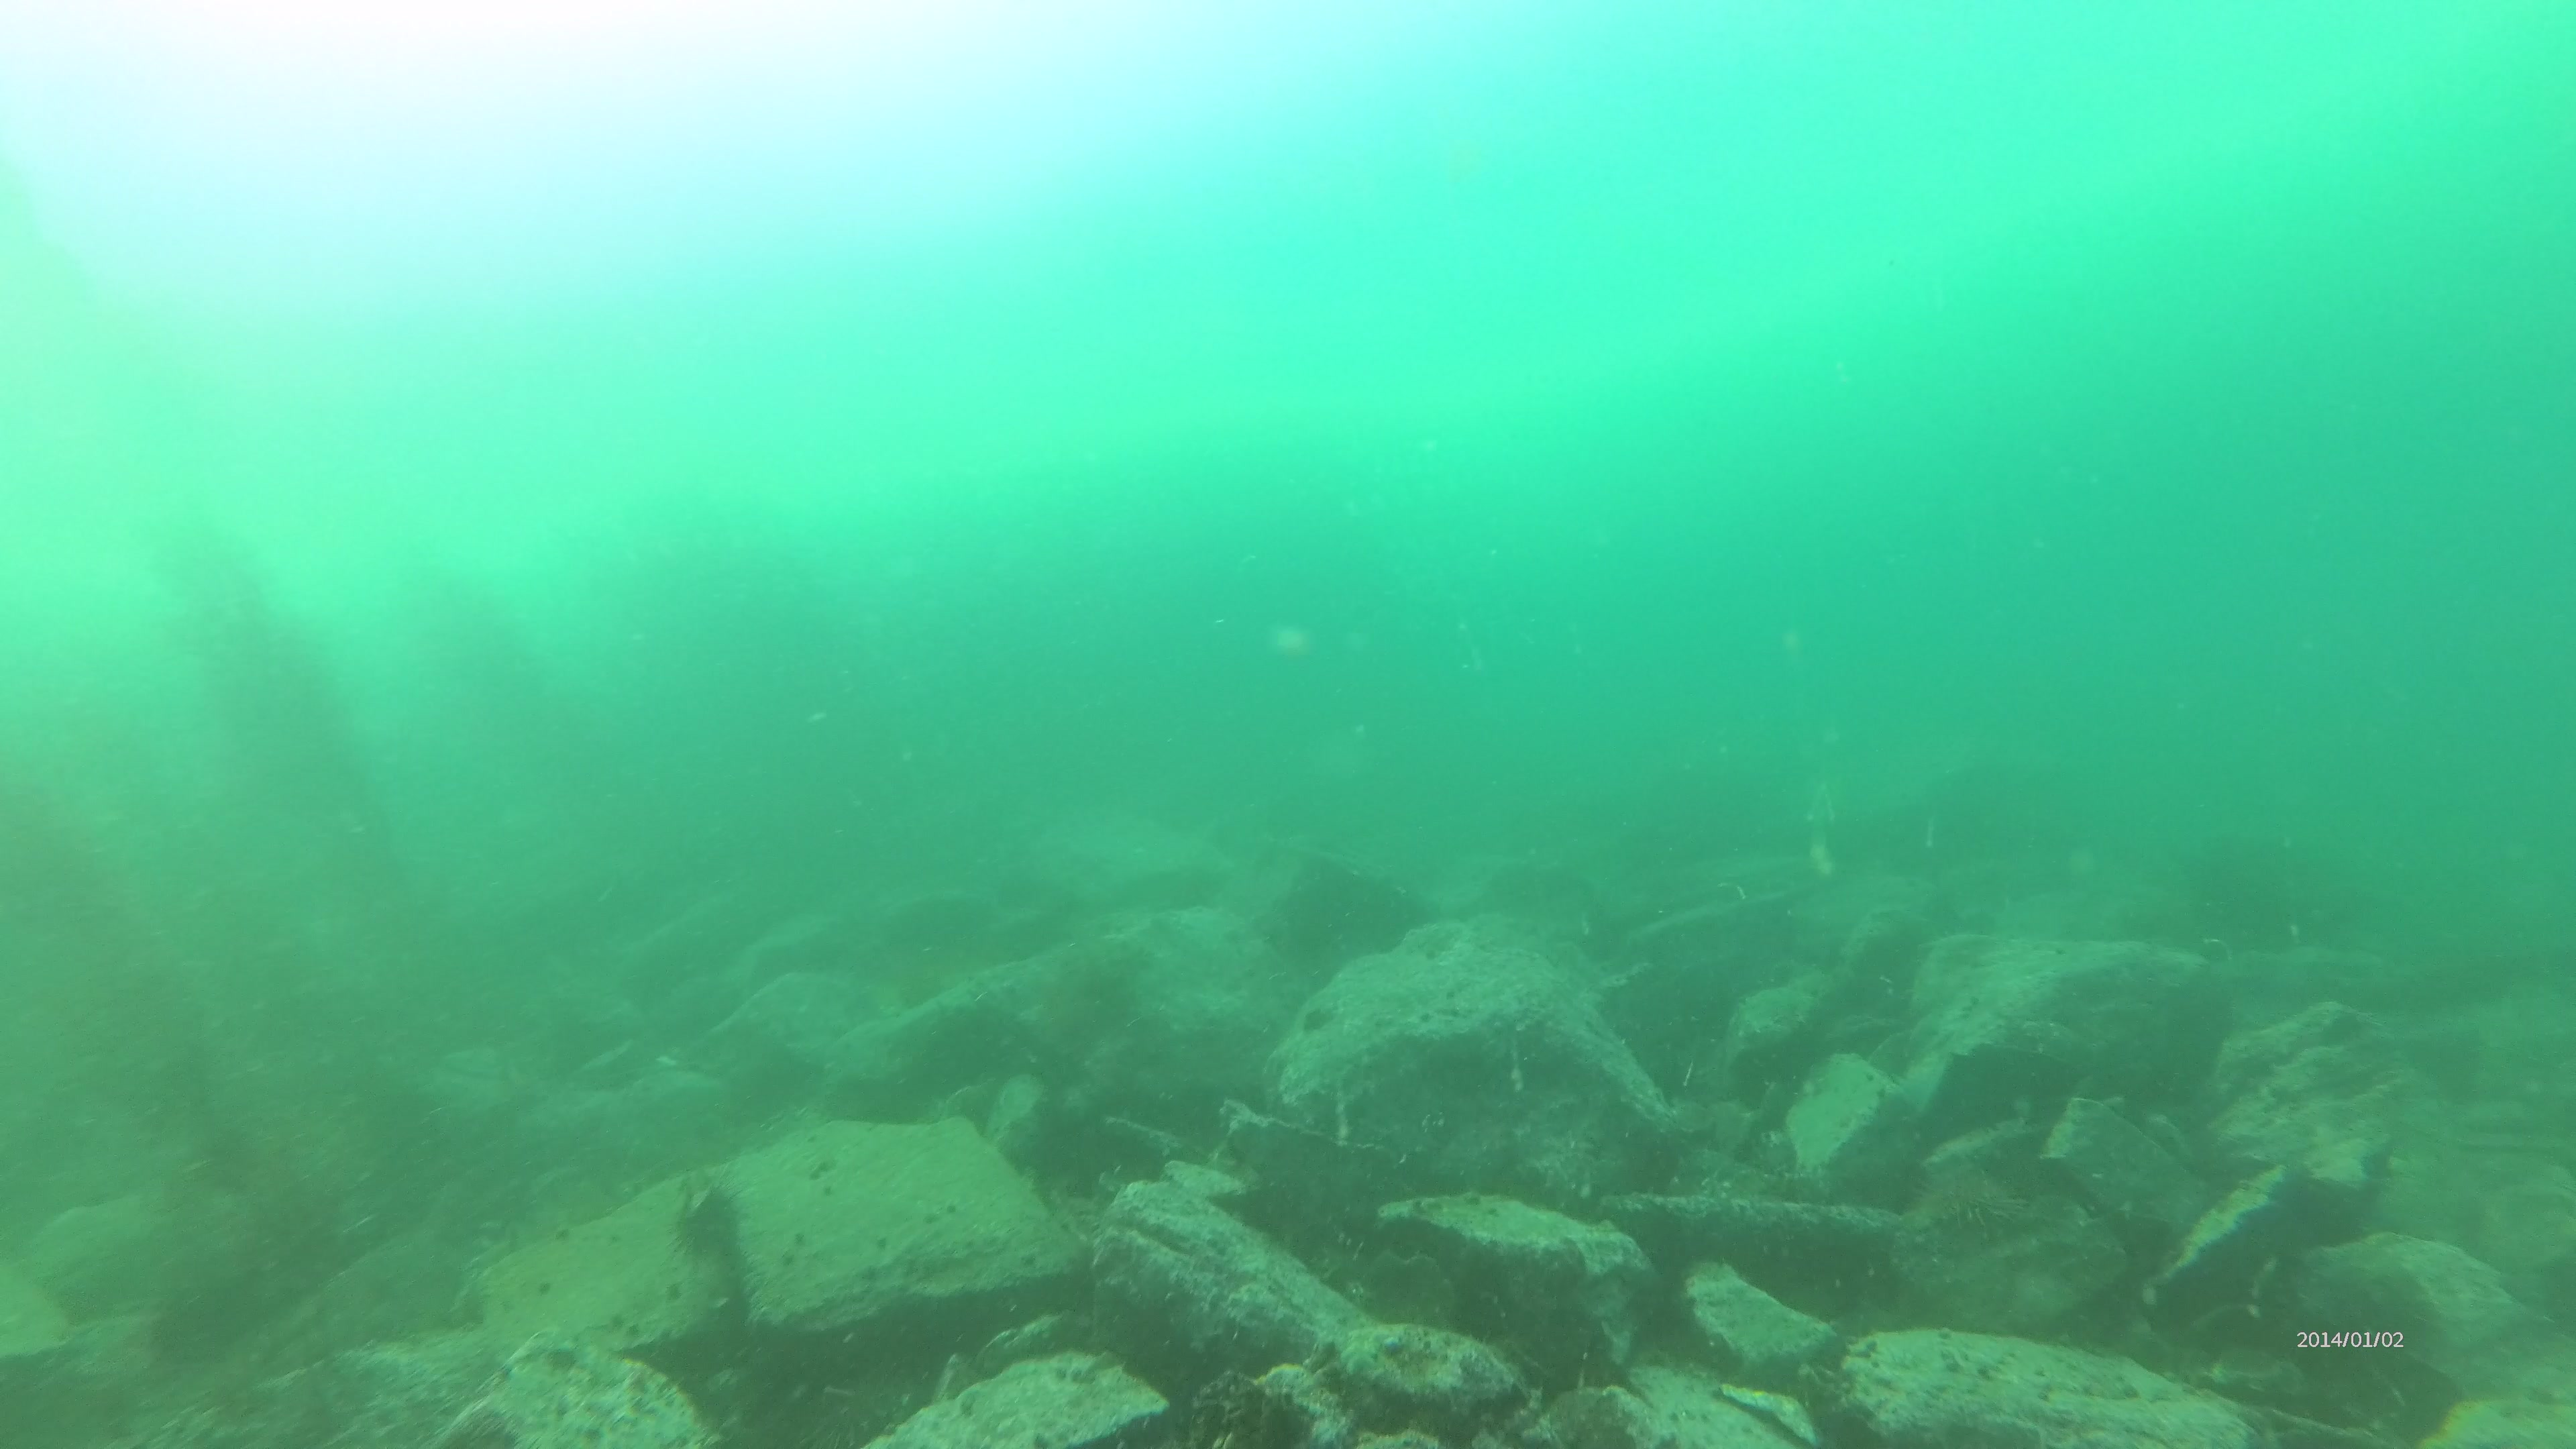echinus: (669, 1182, 747, 1263)
